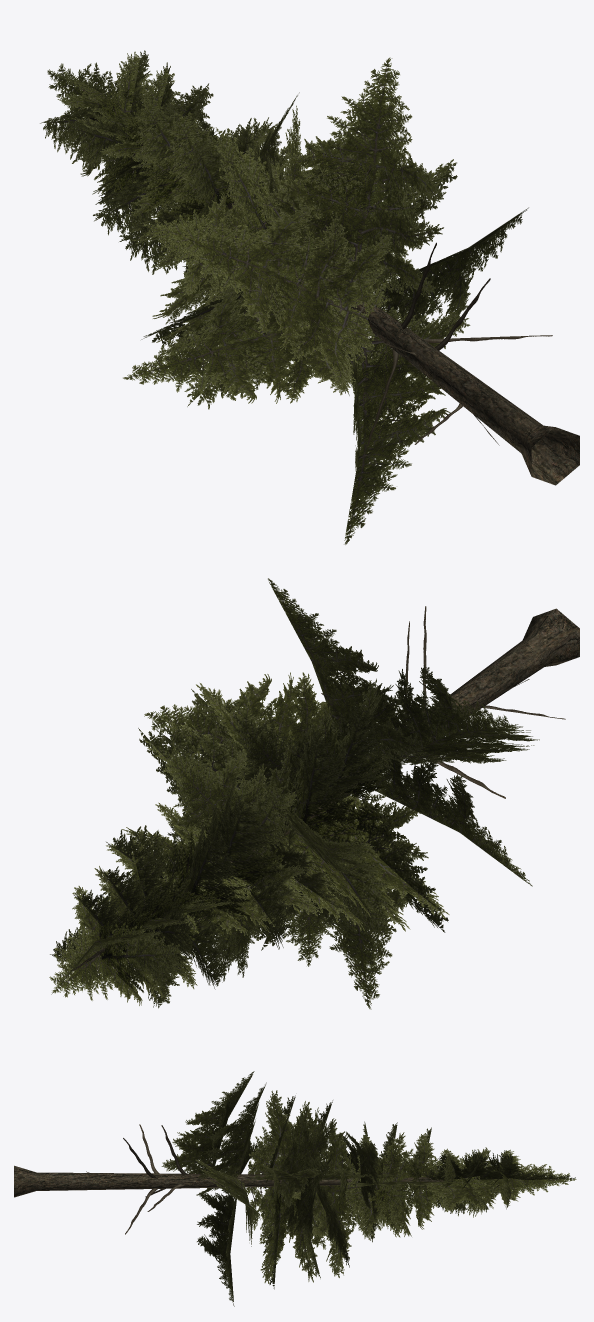
File: MEP_Con_01_f.fbx
3 views of the same model, one above another, from view 1: azimuth 30°, elevation 25°; view 2: azimuth 150°, elevation 25°; view 3: azimuth 270°, elevation 25° (orthographic). The views are drawn at different scales.
Parts seen in each view (by area): view 1: MEP_Con_01_f, MEP_ConTrunk_01_f; view 2: MEP_Con_01_f, MEP_ConTrunk_01_f; view 3: MEP_Con_01_f, MEP_ConTrunk_01_f.
Boxes of the visible parts, x1,y1,x2,y2 form: MEP_Con_01_f: [40, 50, 552, 544]; MEP_ConTrunk_01_f: [81, 88, 579, 485]; MEP_Con_01_f: [49, 578, 565, 1009]; MEP_ConTrunk_01_f: [58, 608, 579, 980]; MEP_Con_01_f: [86, 1071, 576, 1306]; MEP_ConTrunk_01_f: [14, 1165, 560, 1197].
Bounding box in the file's own units: 9.56 × 10.13 × 21.05.
